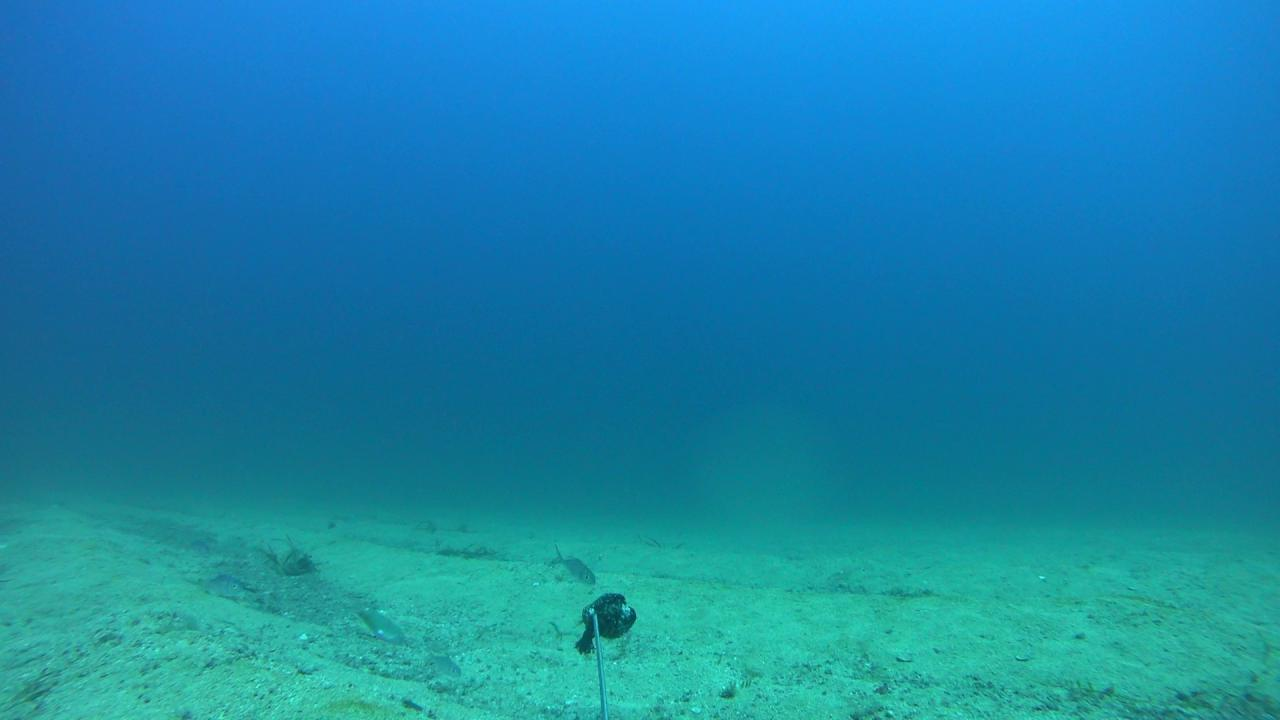pagellus: (548, 543, 596, 586), (424, 648, 463, 682), (195, 574, 244, 597)
